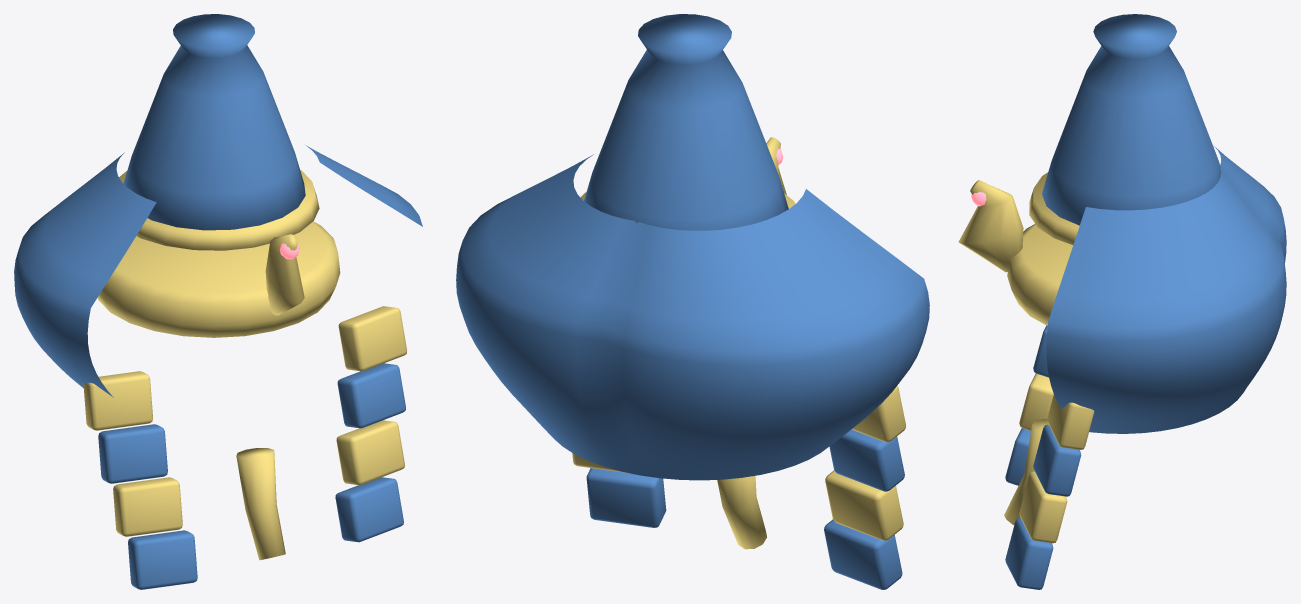
Rendered from boss_ramesses.glb.
3 renders of one model, left to right at view 1: azimuth 30°, elevation 25°; view 2: azimuth 150°, elevation 25°; view 3: azimuth 270°, elevation 25°, orthographic. The views are drawn at different scales.
Parts seen in each view (by area): view 1: PharaohPschent, NemesHoodWing, NemesBrowBand, PschentRim, PharaohBeard, NemesLappet_L_1, NemesLappet_L_3, NemesLappet_L_2, NemesLappet_L_0, NemesLappet_R_0, NemesLappet_R_2, NemesLappet_R_3 (+2 smaller); view 2: NemesHoodWing, PharaohPschent, NemesLappet_R_3, NemesLappet_L_2, NemesLappet_L_3, NemesLappet_L_1, PharaohBeard, NemesLappet_L_0; view 3: NemesHoodWing, PharaohPschent, NemesBrowBand, NemesCobraBody, NemesLappet_R_2, NemesLappet_R_1, NemesLappet_R_3, NemesLappet_R_0, PschentRim, NemesLappet_L_2, PharaohBeard, NemesLappet_L_3 (+1 smaller).
Part boxes in pixels (x1,y1,x2,y2): PharaohPschent: (123, 14, 305, 230); NemesHoodWing: (14, 145, 422, 397); NemesBrowBand: (97, 221, 340, 337); PschentRim: (119, 169, 319, 250); PharaohBeard: (236, 448, 285, 560); NemesLappet_L_1: (98, 424, 167, 483); NemesLappet_L_3: (128, 530, 197, 589); NemesLappet_L_2: (113, 477, 182, 536); NemesLappet_L_0: (83, 371, 152, 430); NemesLappet_R_0: (338, 306, 406, 371); NemesLappet_R_2: (336, 420, 404, 485); NemesLappet_R_3: (335, 477, 403, 542); NemesHoodWing: (456, 154, 929, 480); PharaohPschent: (584, 14, 788, 230); NemesLappet_R_3: (586, 468, 666, 527); NemesLappet_L_2: (825, 470, 903, 540); NemesLappet_L_3: (824, 519, 902, 589); NemesLappet_L_1: (829, 429, 904, 491); PharaohBeard: (717, 475, 766, 549); NemesLappet_L_0: (852, 386, 905, 442); NemesHoodWing: (1046, 145, 1286, 433); PharaohPschent: (1042, 14, 1220, 225); NemesBrowBand: (1007, 224, 1072, 325); NemesCobraBody: (958, 180, 1023, 272); NemesLappet_R_2: (1019, 471, 1067, 543); NemesLappet_R_1: (1033, 424, 1081, 496); NemesLappet_R_3: (1005, 518, 1053, 589); NemesLappet_R_0: (1047, 394, 1094, 449); PschentRim: (1029, 172, 1079, 244); NemesLappet_L_2: (1019, 373, 1053, 430); PharaohBeard: (1004, 419, 1048, 524); NemesLappet_L_3: (1005, 428, 1030, 485).
Bounding box in the file's own units: 0.3735 × 0.4703 × 0.2822.
